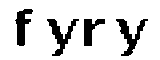f: (11, 5, 38, 52)
r: (83, 16, 108, 49)
y: (113, 15, 149, 60), (43, 17, 79, 60)
